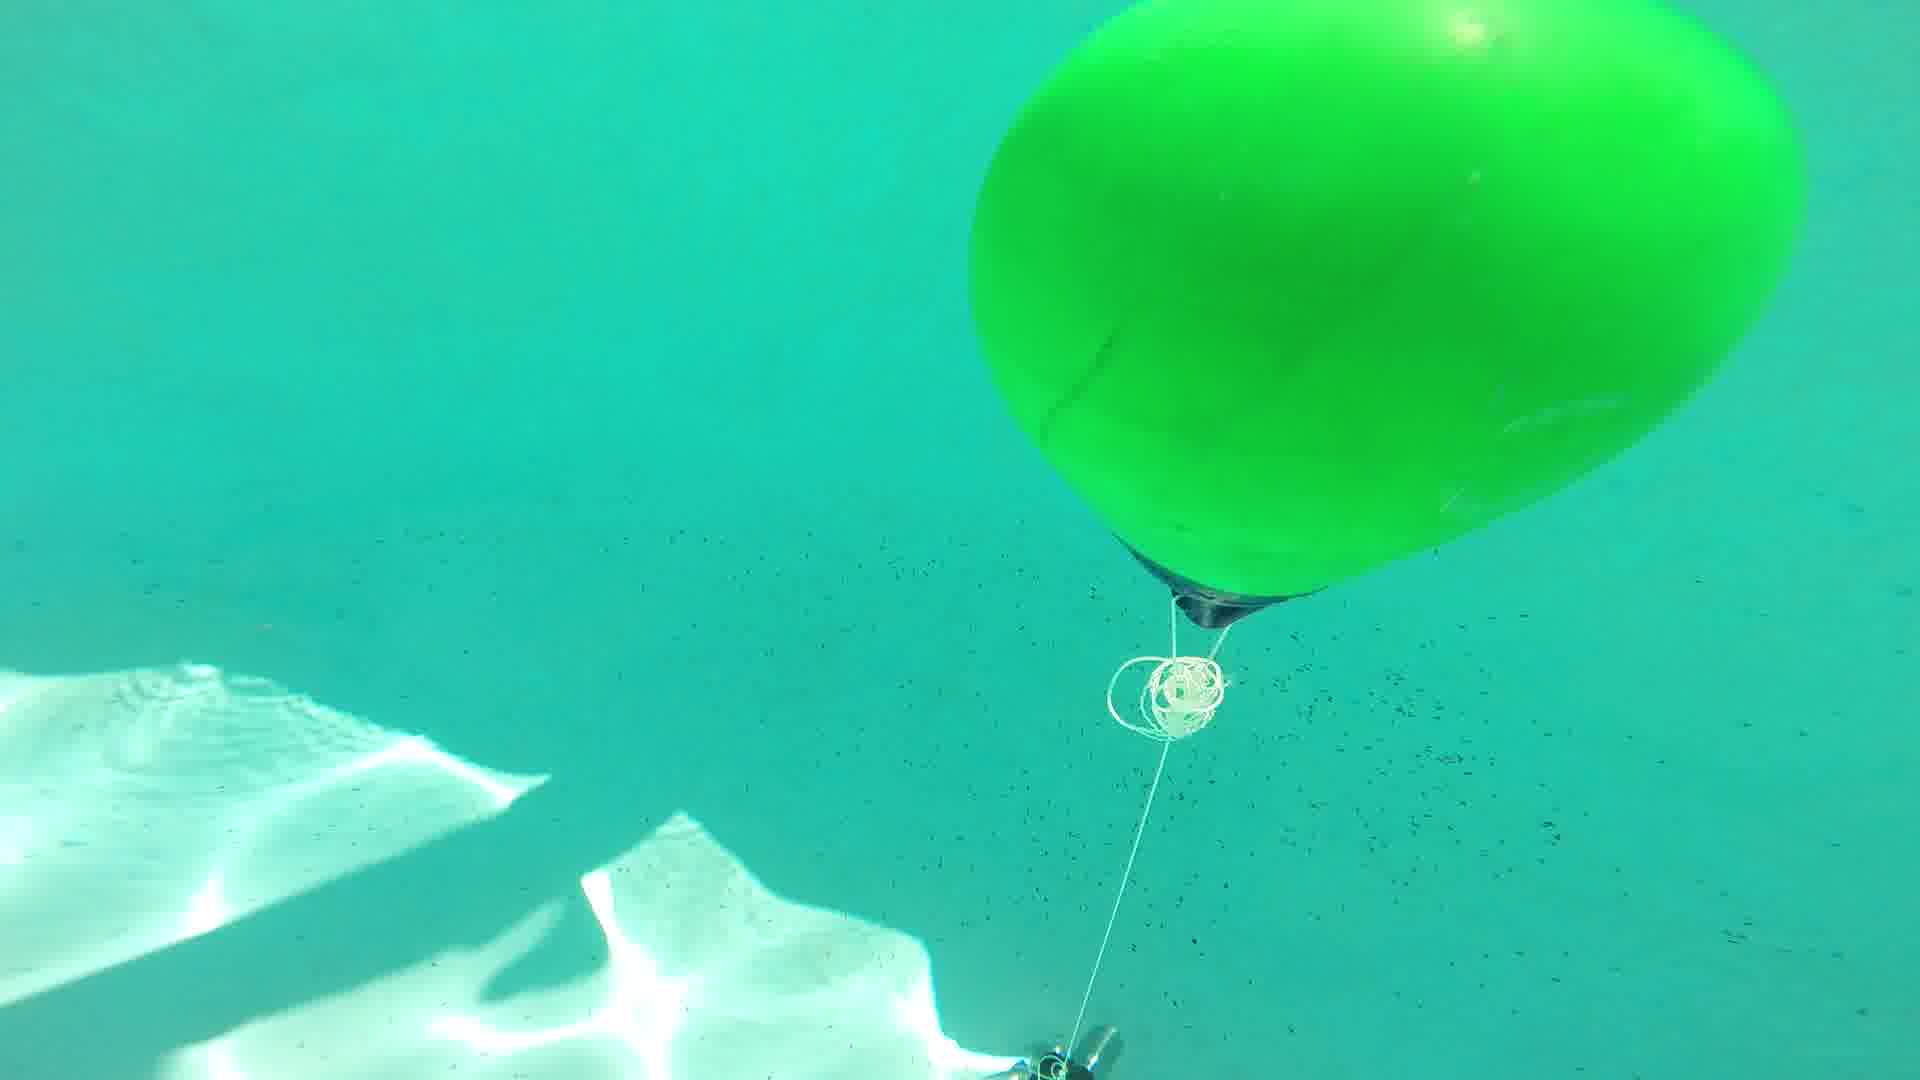yellow_buoy: (975, 1, 1815, 645)
